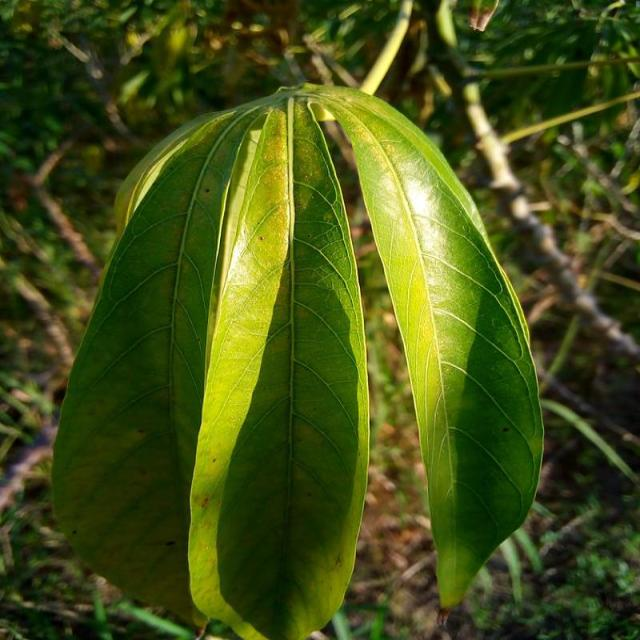cassava leaf: (49, 81, 544, 637)
